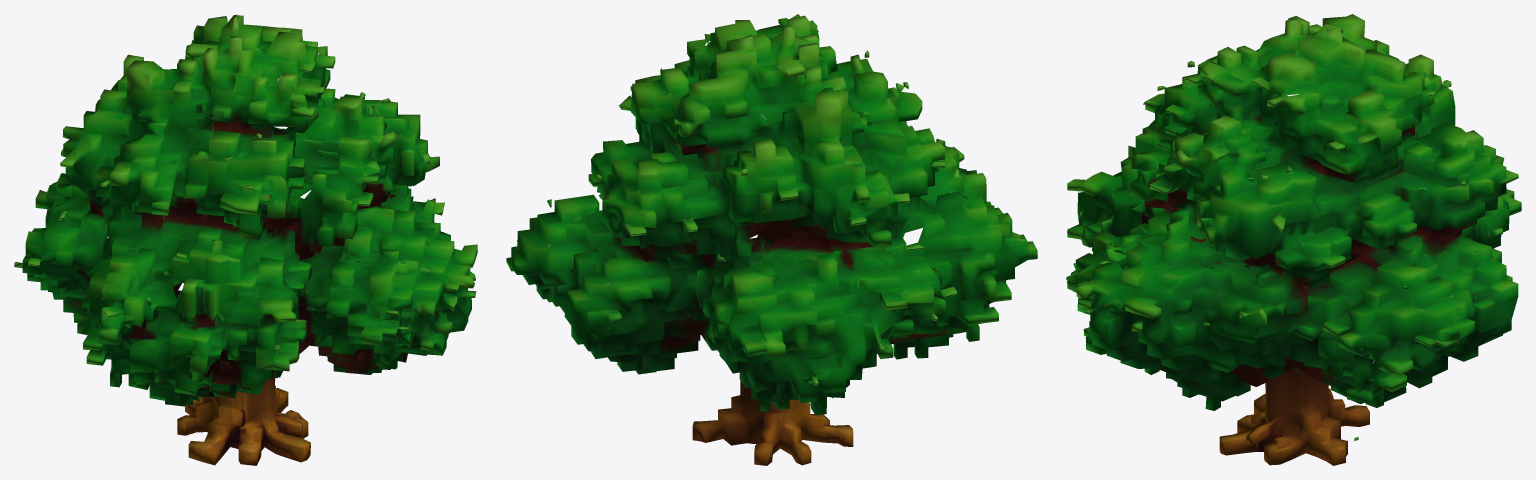
Rendered from voxel tree 3d model.glb.
The picture shows the model from 3 angles, left to right: view 1: azimuth 30°, elevation 25°; view 2: azimuth 150°, elevation 25°; view 3: azimuth 270°, elevation 25°; orthographic projection. The views are drawn at different scales.
Parts seen in each view (by area): view 1: 62d02fd0-9955-4dc1-83dd-99c2409afe54; view 2: 62d02fd0-9955-4dc1-83dd-99c2409afe54; view 3: 62d02fd0-9955-4dc1-83dd-99c2409afe54.
Boxes of the visible parts, x1,y1,x2,y2 form: 62d02fd0-9955-4dc1-83dd-99c2409afe54: [14, 14, 477, 465]; 62d02fd0-9955-4dc1-83dd-99c2409afe54: [506, 14, 1037, 465]; 62d02fd0-9955-4dc1-83dd-99c2409afe54: [1066, 14, 1521, 465].
Bounding box in the file's own units: 0.9995 × 0.9995 × 0.9888.
Materials: 1 (1 with a texture image).
